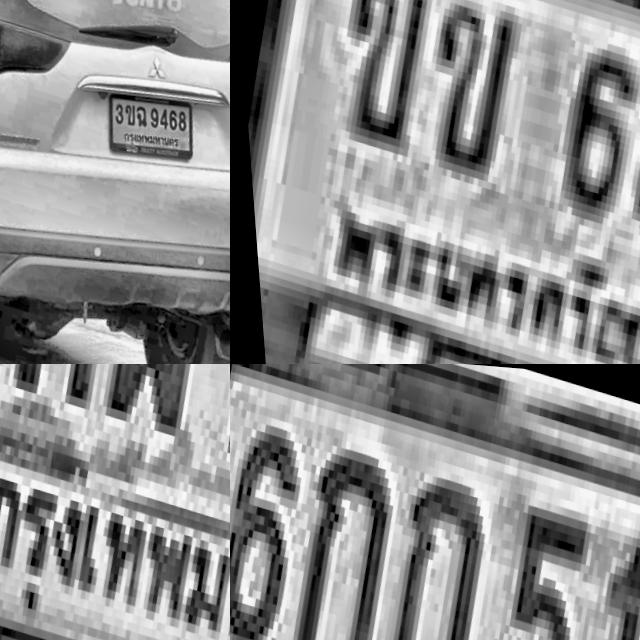license-plate: (230, 0, 640, 364), (230, 364, 640, 640), (0, 364, 230, 640), (90, 66, 203, 172)
